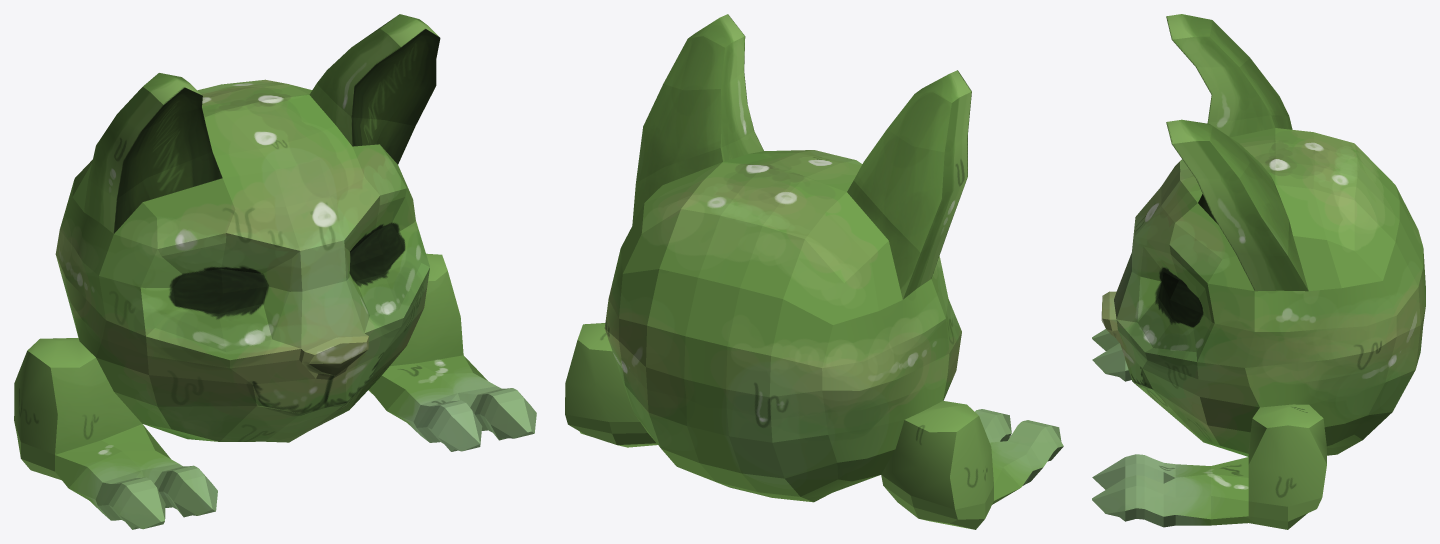
The model's file is Mud.fbx.
3 views of the same model, side by side, from view 1: azimuth 30°, elevation 25°; view 2: azimuth 150°, elevation 25°; view 3: azimuth 270°, elevation 25° (orthographic). The views are drawn at different scales.
Parts seen in each view (by area): view 1: Babosa; view 2: Babosa; view 3: Babosa.
Part boxes in pixels (bbox=[...]): Babosa: bbox=[14, 14, 536, 529]; Babosa: bbox=[565, 14, 1063, 529]; Babosa: bbox=[1092, 14, 1425, 529].
Bounding box in the file's own units: 115 × 106 × 85.34.
Materials: 1 (1 with a texture image).
